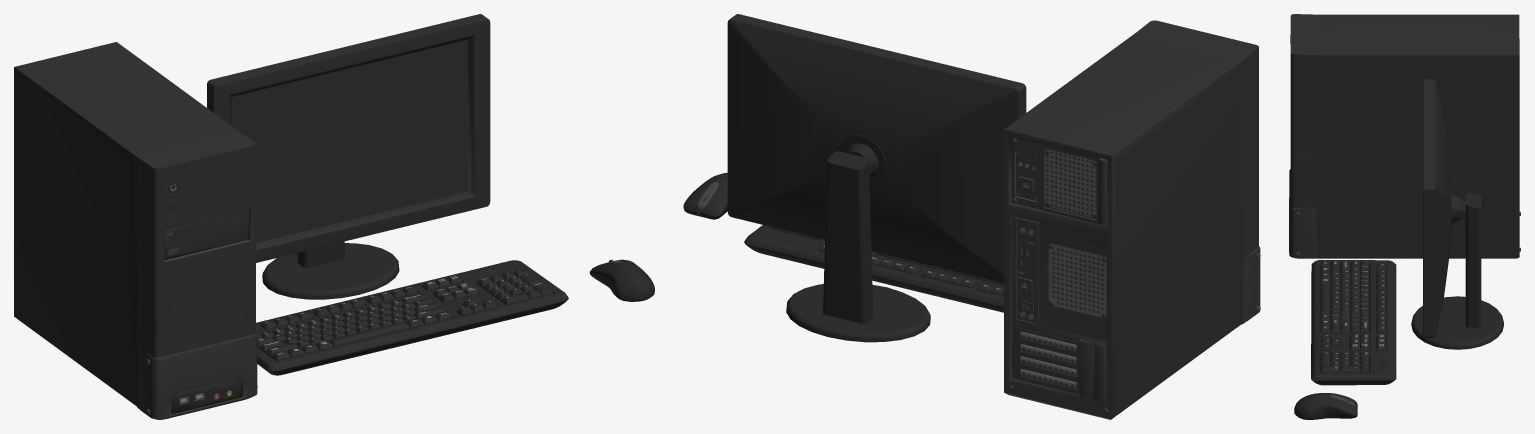
Rendered from desktop.glb.
3 views of the same model, side by side, from view 1: azimuth 30°, elevation 25°; view 2: azimuth 150°, elevation 25°; view 3: azimuth 270°, elevation 25° (orthographic). The views are drawn at different scales.
Visible parts, largest first — view 1: node_id30; view 2: node_id30; view 3: node_id30.
Boxes of the visible parts, <box> form: node_id30: <box>14,14,654,419</box>; node_id30: <box>683,14,1260,419</box>; node_id30: <box>1289,14,1520,419</box>.
Bounding box in the file's own units: 0.9613 × 0.4536 × 0.4641.
Materials: 1 (1 with a texture image).
